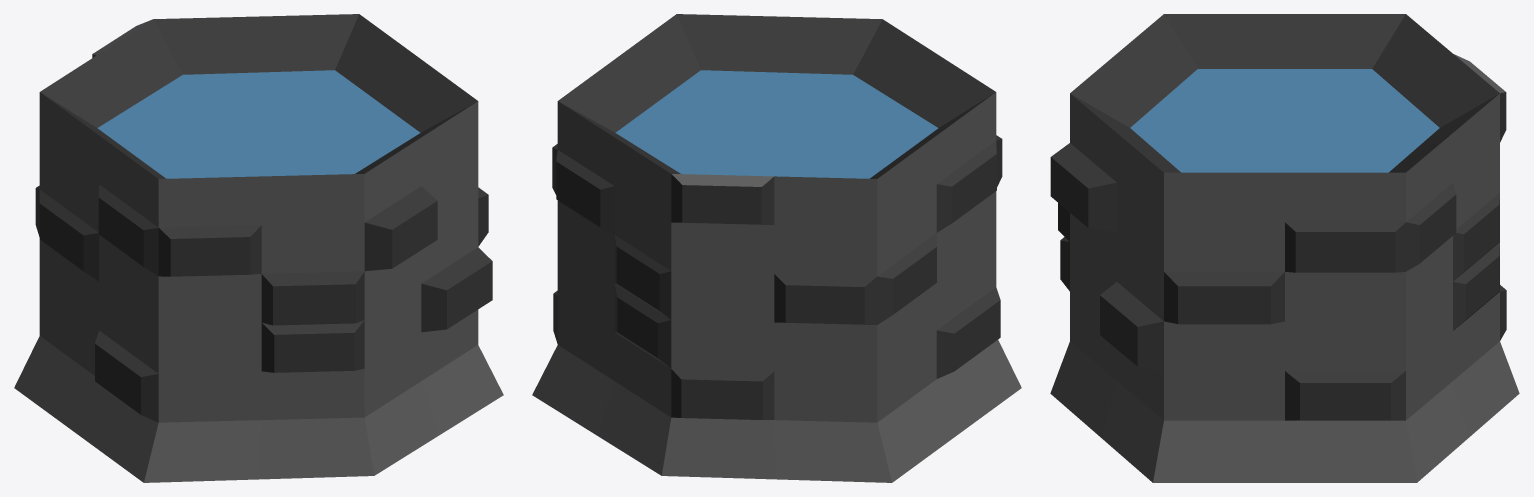
File: studnia.fbx
3 views of the same model, side by side, from view 1: azimuth 30°, elevation 25°; view 2: azimuth 150°, elevation 25°; view 3: azimuth 270°, elevation 25° (orthographic).
Visible parts, largest first — view 1: studnia; view 2: studnia; view 3: studnia.
Boxes of the visible parts, box(x1,y1,x2,y2) form: studnia: box(14, 14, 503, 482); studnia: box(532, 14, 1021, 482); studnia: box(1050, 14, 1519, 482).
Bounding box in the file's own units: 345 × 270 × 383.
